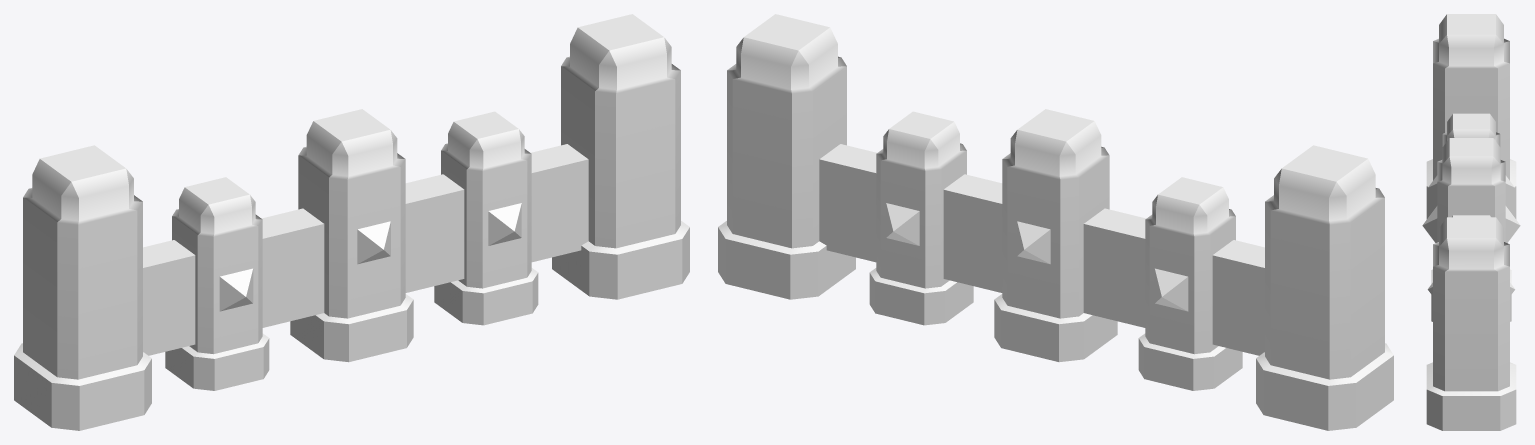
Rendered from Wall_Lv14_1.fbx.
3 views of the same model, side by side, from view 1: azimuth 30°, elevation 25°; view 2: azimuth 150°, elevation 25°; view 3: azimuth 270°, elevation 25° (orthographic). The views are drawn at different scales.
Visible parts, largest first — view 1: Wall; view 2: Wall; view 3: Wall.
Part boxes in pixels (x1,y1,x2,y2): Wall: [14, 14, 689, 430]; Wall: [718, 14, 1393, 430]; Wall: [1422, 14, 1520, 430].
Size of the model in its own units: 1.58 by 0.5641 by 0.2725.
